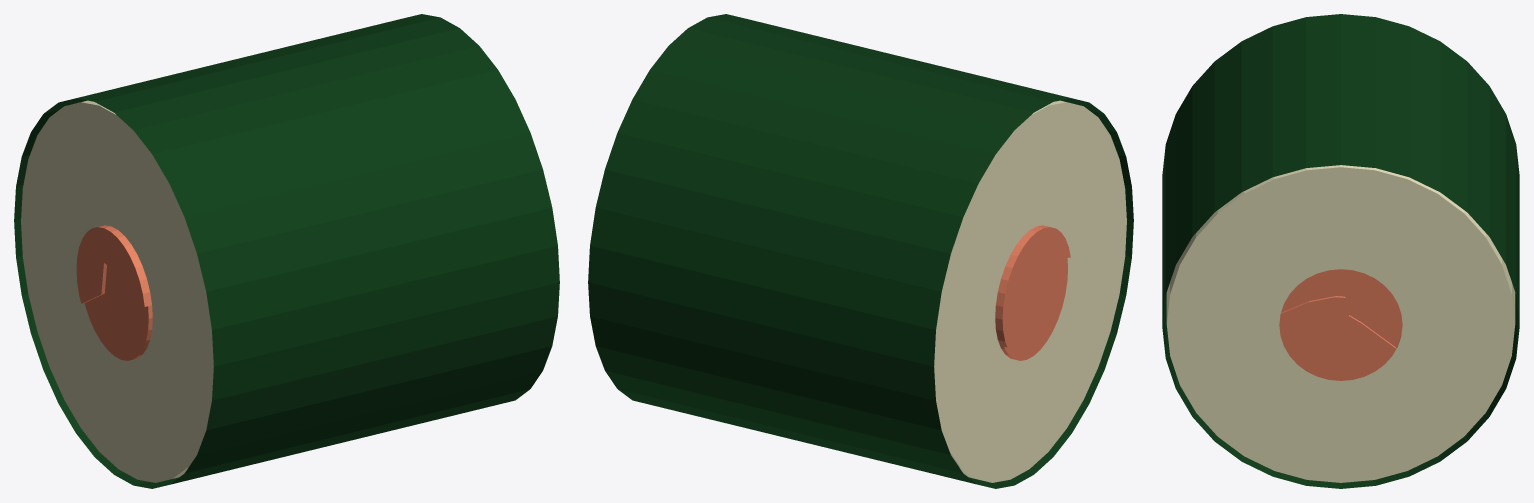
File: sushi.fbx
3 views of the same model, side by side, from view 1: azimuth 30°, elevation 25°; view 2: azimuth 150°, elevation 25°; view 3: azimuth 270°, elevation 25° (orthographic). The views are drawn at different scales.
Parts seen in each view (by area): view 1: Cylinder.001, Cylinder; view 2: Cylinder.001, Cylinder; view 3: Cylinder, Cylinder.001.
Boxes of the visible parts, x1,y1,x2,y2 form: Cylinder.001: [14, 14, 559, 488]; Cylinder: [21, 100, 213, 482]; Cylinder.001: [588, 14, 1133, 488]; Cylinder: [934, 100, 1126, 482]; Cylinder: [1166, 165, 1515, 482]; Cylinder.001: [1162, 14, 1519, 488].
Size of the model in its own units: 207 by 205 by 205.
